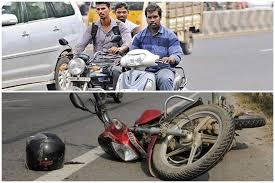helmet: (21, 128, 74, 177)
no_helmet: (92, 3, 112, 22), (145, 11, 161, 30), (114, 7, 130, 22)
